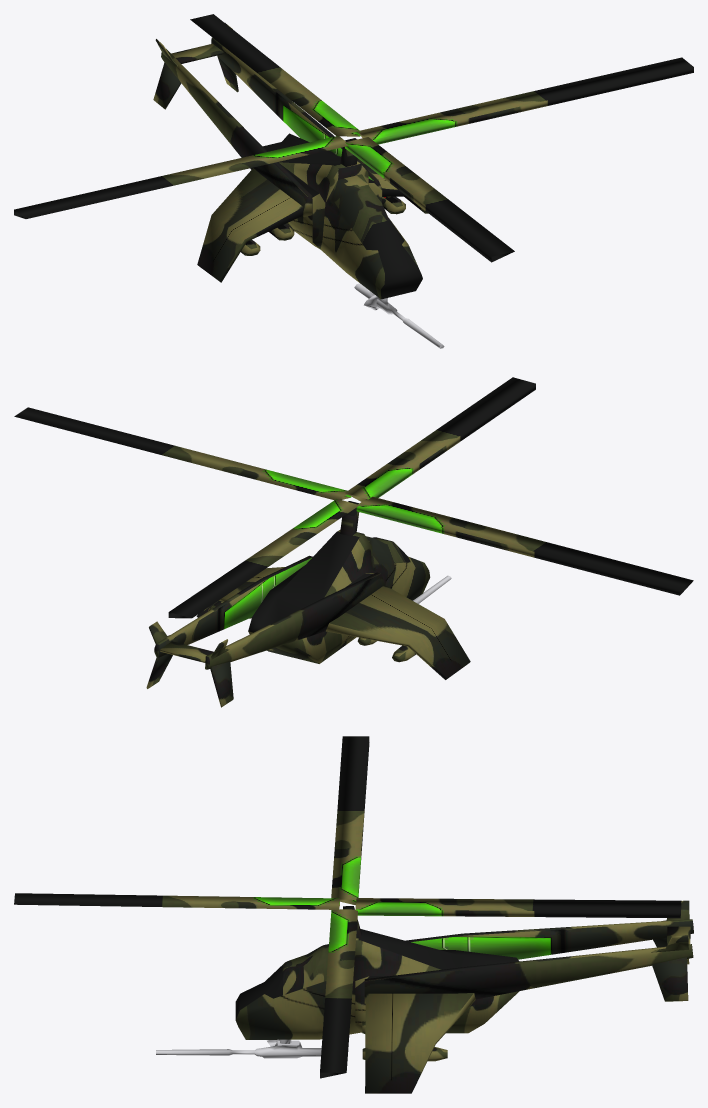
The model's file is attack-heli.glb.
3 renders of one model, top to bottom at view 1: azimuth 30°, elevation 25°; view 2: azimuth 150°, elevation 25°; view 3: azimuth 270°, elevation 25°, orthographic. The views are drawn at different scales.
Bounding box in the file's own units: 4.36 × 0.9472 × 3.72.
Materials: 2 (1 with a texture image).
